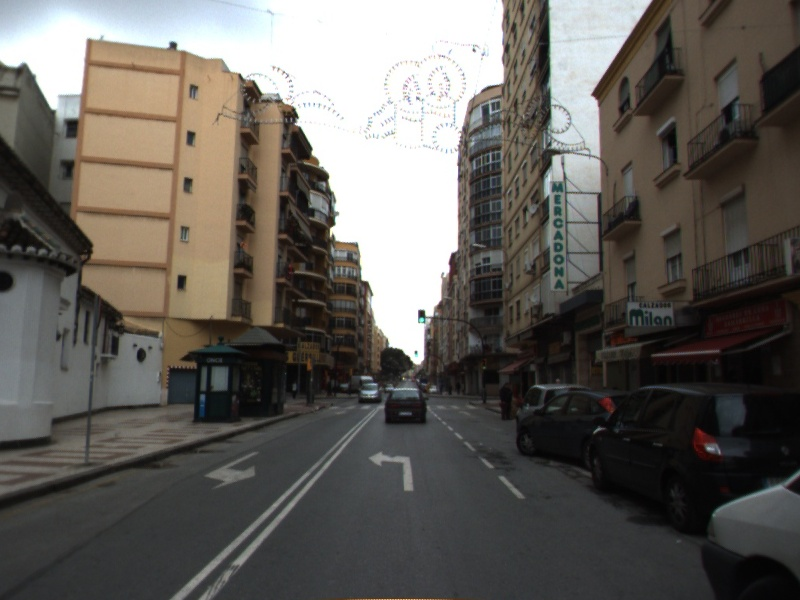LEFT: (367, 450, 415, 492)
